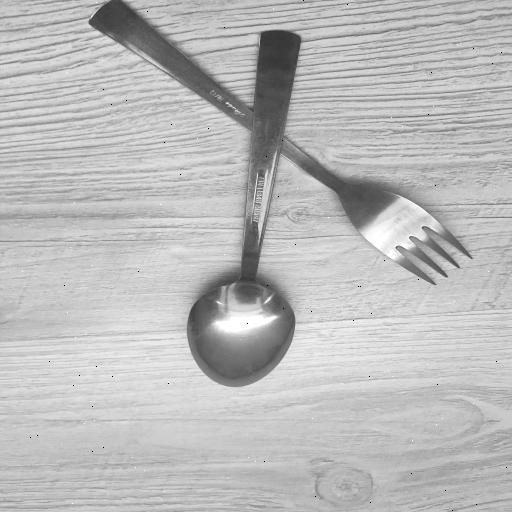fork: (78, 0, 474, 285)
spoon: (183, 36, 304, 389)
